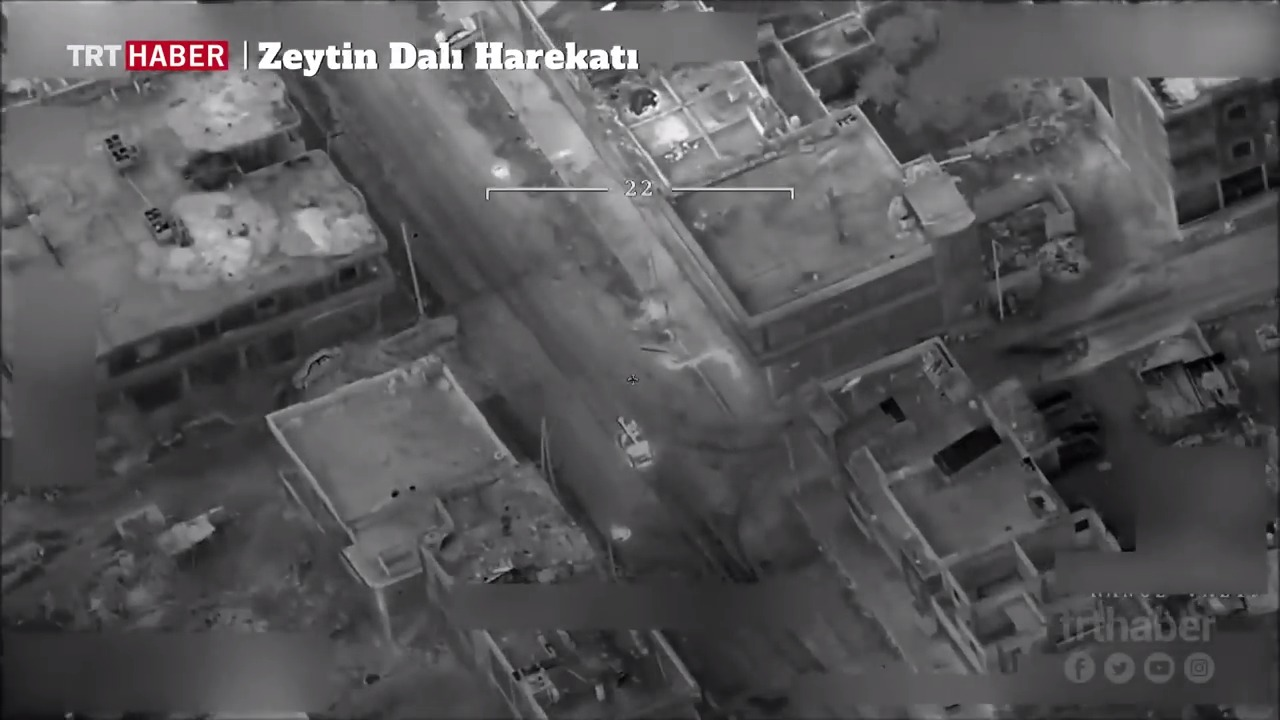arac: (604, 410, 668, 477)
